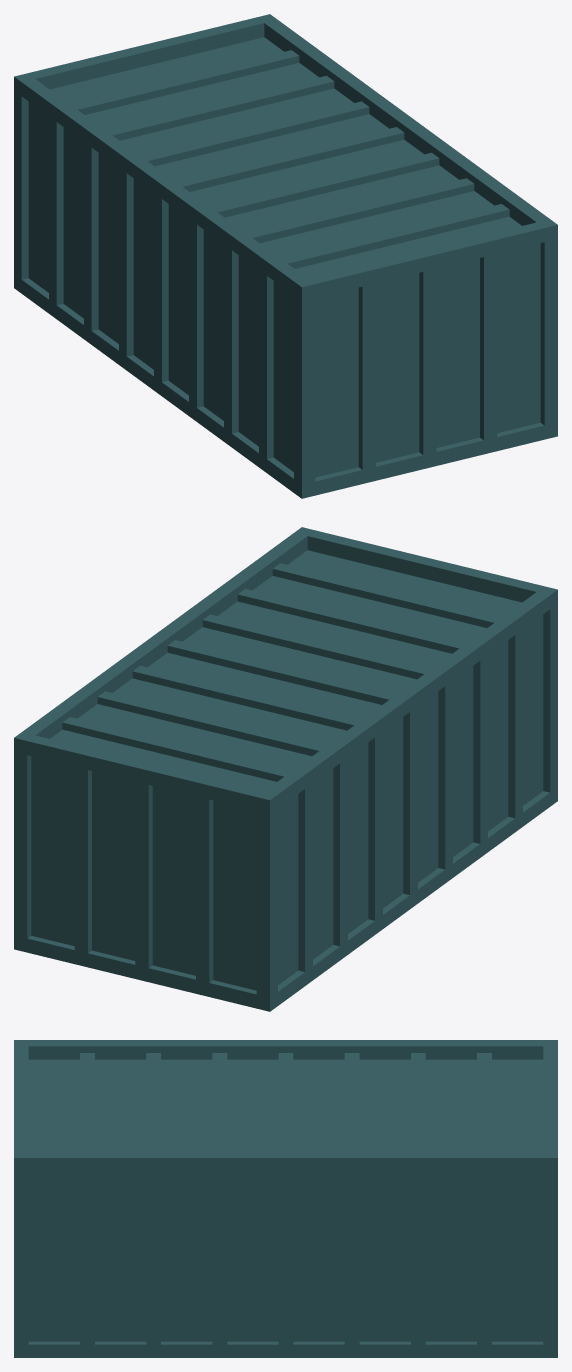
The model's file is contener.fbx.
3 views of the same model, one above another, from view 1: azimuth 30°, elevation 25°; view 2: azimuth 150°, elevation 25°; view 3: azimuth 270°, elevation 25° (orthographic). The views are drawn at different scales.
Visible parts, largest first — view 1: contener; view 2: contener; view 3: contener.
Part boxes in pixels (x1,y1,x2,y2): contener: (14, 14, 557, 498); contener: (14, 527, 557, 1011); contener: (14, 1040, 557, 1357).
Bounding box in the file's own units: 380 × 300 × 740.
